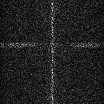wifi: (1, 41, 104, 46)
